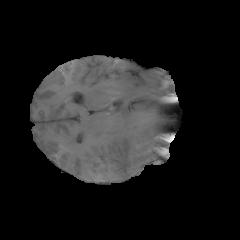glioma: (110, 107, 162, 174)
